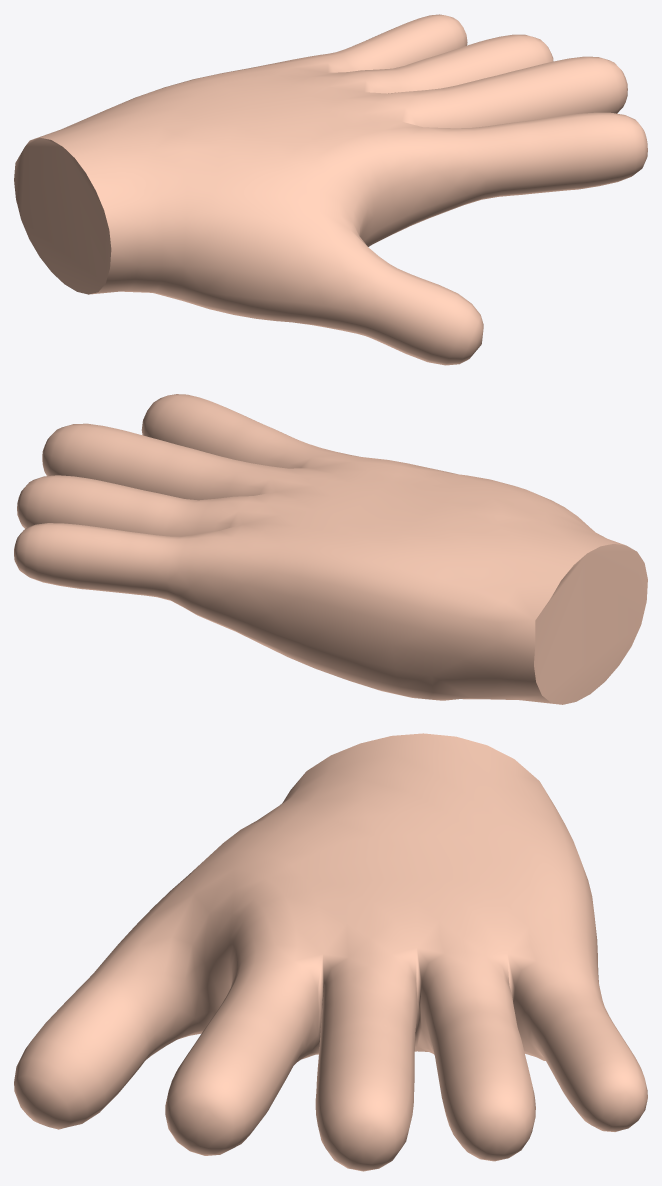
Rendered from Hand_Man_L_01.fbx.
3 renders of one model, top to bottom at view 1: azimuth 30°, elevation 25°; view 2: azimuth 150°, elevation 25°; view 3: azimuth 270°, elevation 25°, orthographic. The views are drawn at different scales.
Visible parts, largest first — view 1: Hand_Man_L_01; view 2: Hand_Man_L_01; view 3: Hand_Man_L_01.
Part boxes in pixels (x1=…): Hand_Man_L_01: x1=14, y1=14, x2=647, y2=365; Hand_Man_L_01: x1=14, y1=394, x2=647, y2=704; Hand_Man_L_01: x1=14, y1=733, x2=647, y2=1171.
Bounding box in the file's own units: 0.4733 × 0.1471 × 0.3624.
